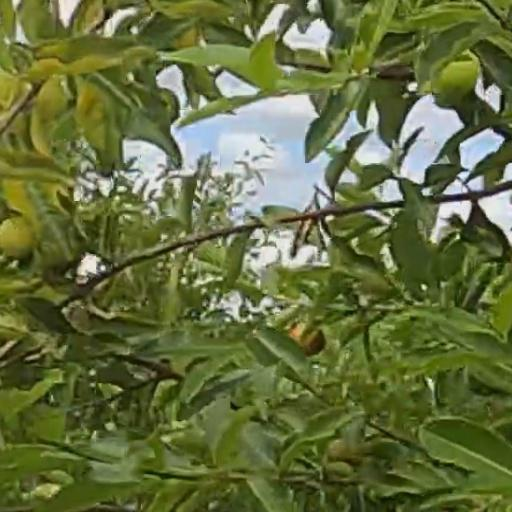acerola: (2, 220, 37, 258)
